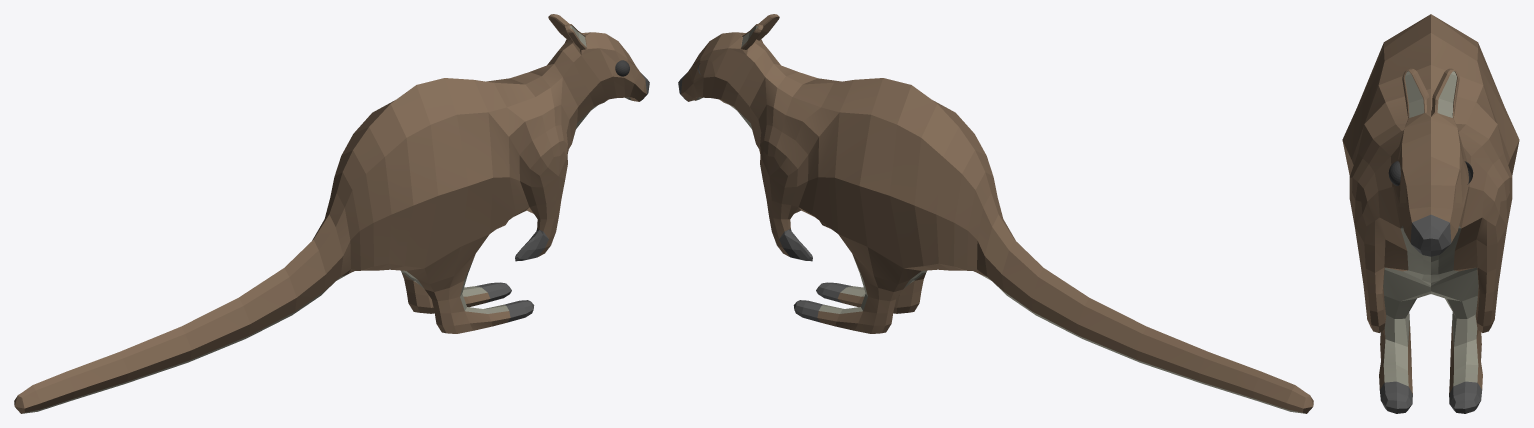
Rendered from wallaby.glb.
The picture shows the model from 3 angles, left to right: view 1: azimuth 30°, elevation 25°; view 2: azimuth 150°, elevation 25°; view 3: azimuth 270°, elevation 25°; orthographic projection. The views are drawn at different scales.
Parts seen in each view (by area): view 1: Cube.008; view 2: Cube.008; view 3: Cube.008, Sphere.002.
Boxes of the visible parts, box(x1,y1,x2,y2) form: Cube.008: box(14, 14, 649, 413); Cube.008: box(678, 14, 1313, 413); Cube.008: box(1342, 14, 1519, 413); Sphere.002: box(1388, 161, 1400, 185).
Size of the model in its own units: 2.76 by 1.15 by 0.4887.
